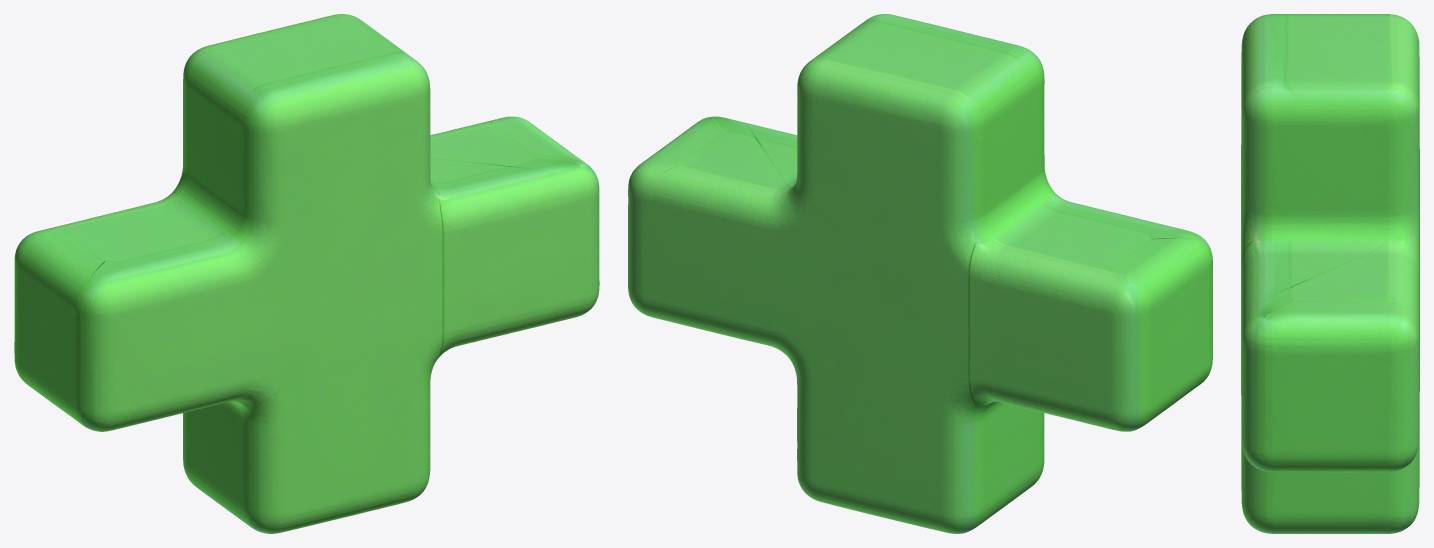
The model's file is Create_a_3D_model_of__1116093426_texture.fbx.
3 renders of one model, left to right at view 1: azimuth 30°, elevation 25°; view 2: azimuth 150°, elevation 25°; view 3: azimuth 270°, elevation 25°, orthographic. The views are drawn at different scales.
Parts seen in each view (by area): view 1: temp; view 2: temp; view 3: temp.
Boxes of the visible parts, x1,y1,x2,y2 form: temp: (14,14,599,533); temp: (628,14,1212,533); temp: (1241,14,1419,533).
Bounding box in the file's own units: 61.51 × 50 × 17.97.
Materials: 1 (1 with a texture image).
